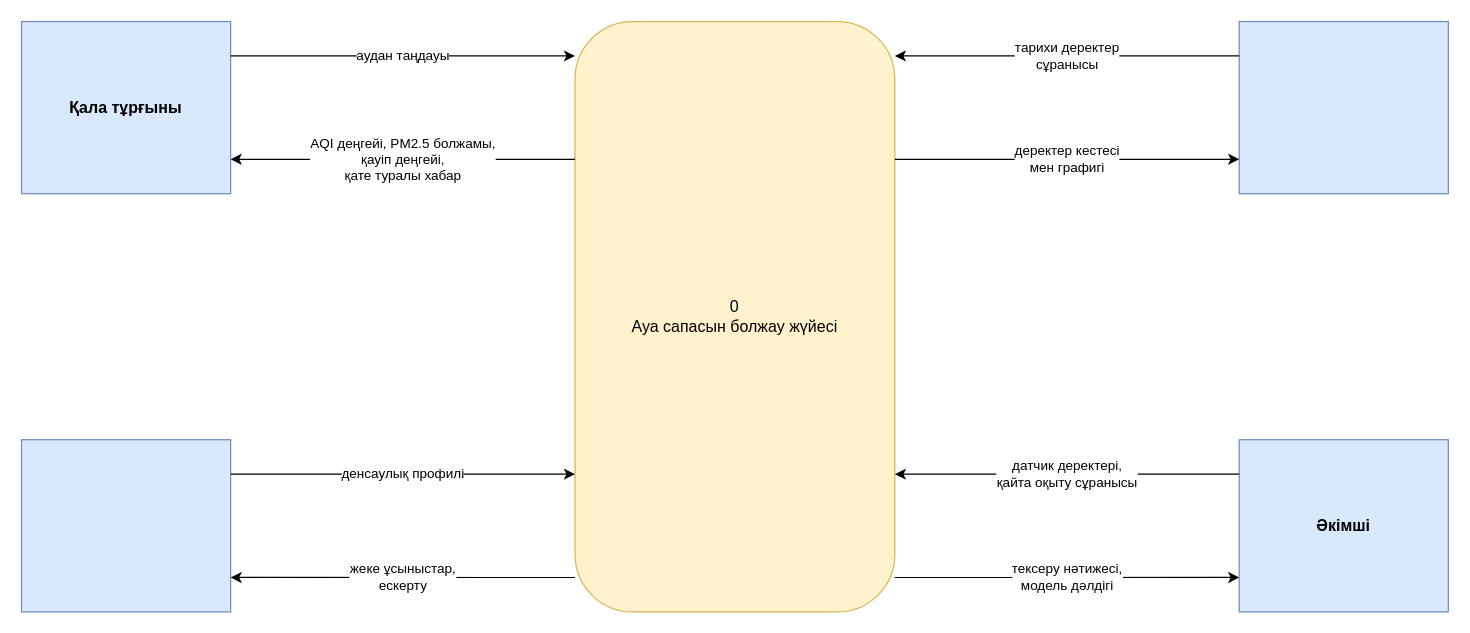
Image size: 1470x633. Some labels were removed from this diagram. Each missing label, with the box of its shape:
Экологиялық талдаушы: (1238, 20, 1448, 194)
Қауіп тобындағы тұрғын: (20, 438, 231, 612)
